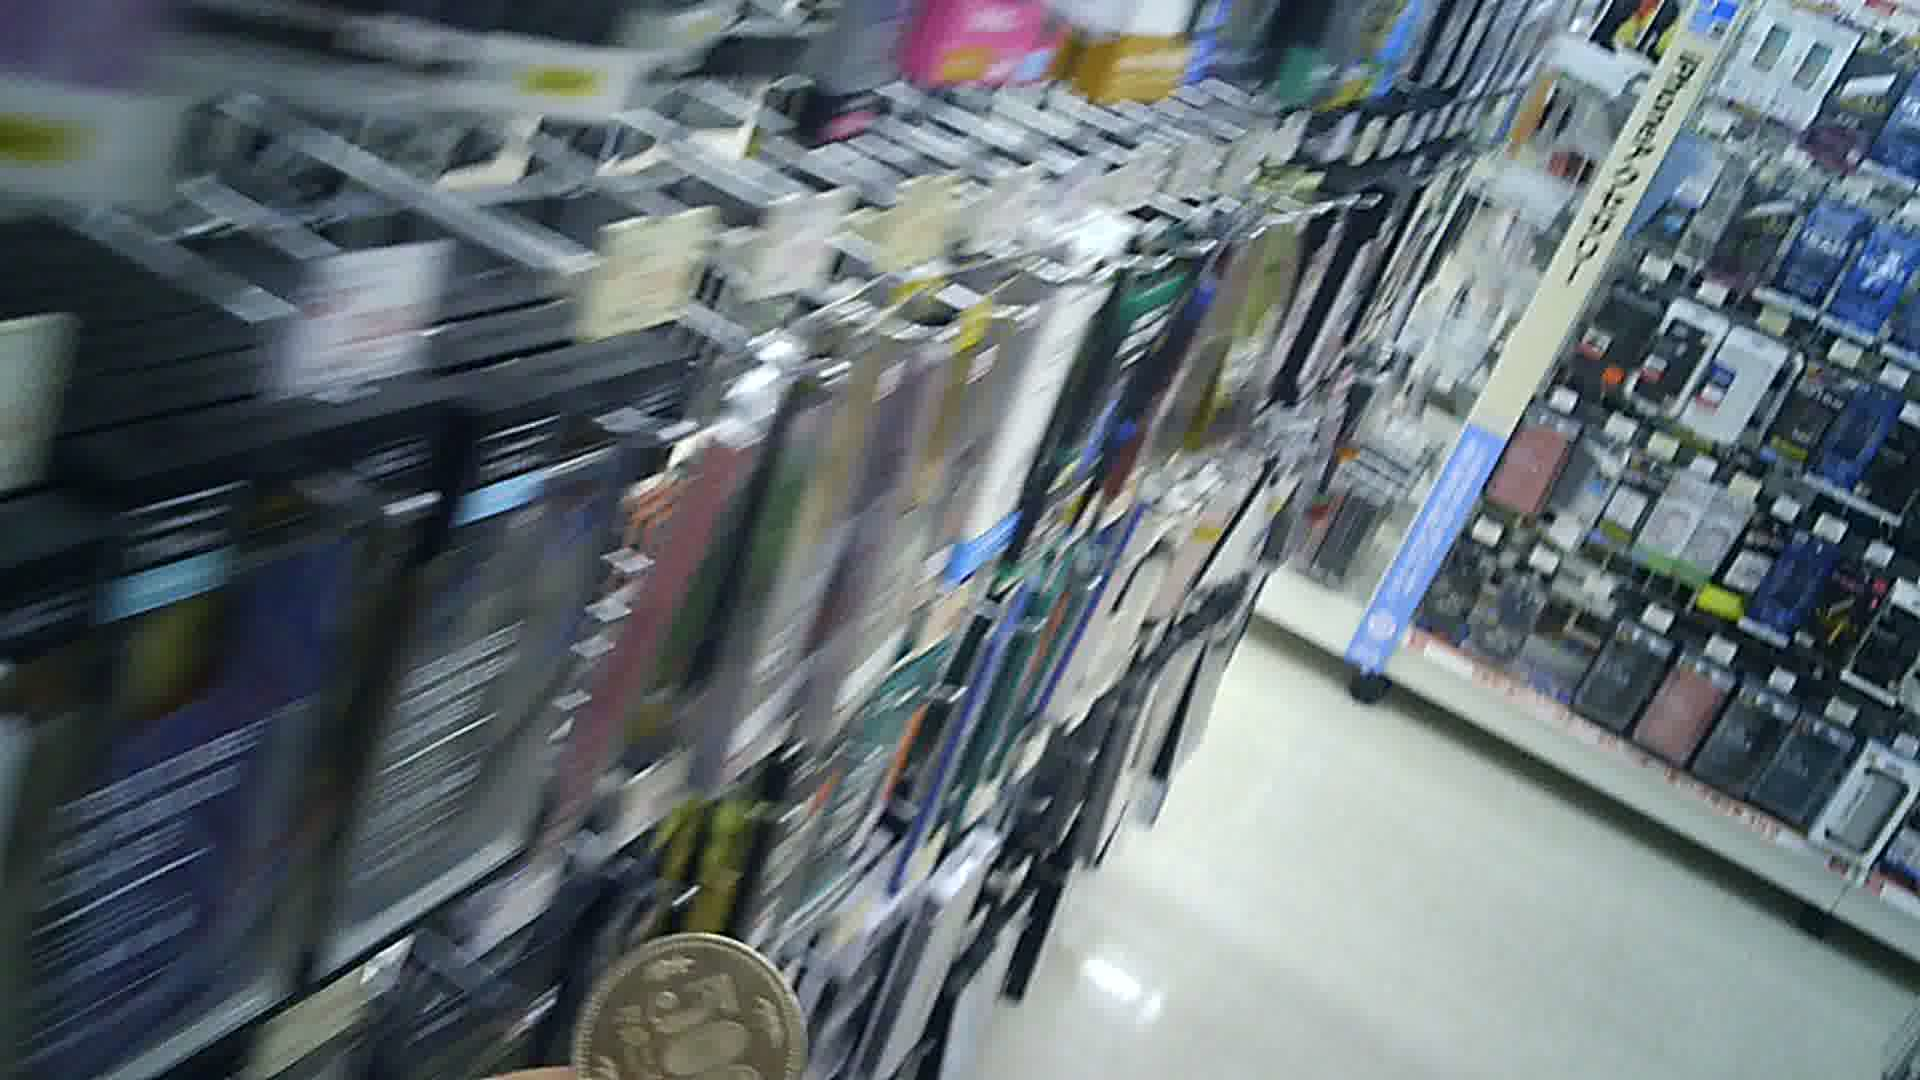500 Yen: (575, 938, 825, 1073)
